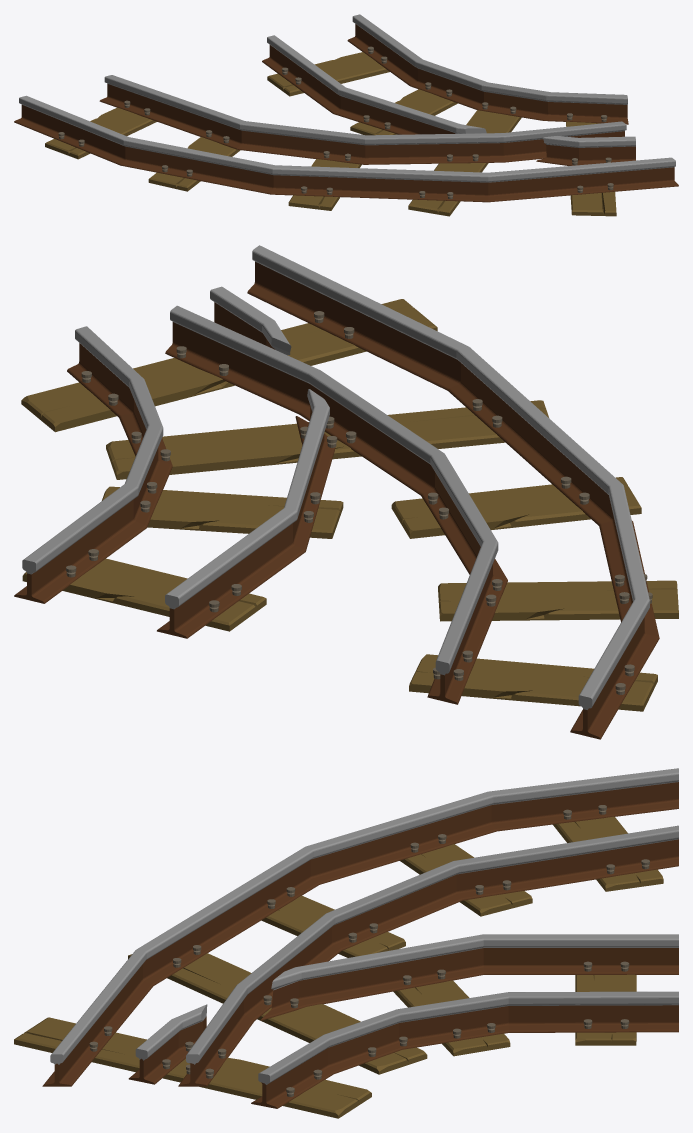
Rendered from ray_tahta_2_egimli_.fbx.
3 views of the same model, one above another, from view 1: azimuth 30°, elevation 25°; view 2: azimuth 150°, elevation 25°; view 3: azimuth 270°, elevation 25° (orthographic). The views are drawn at different scales.
Visible parts, largest first — view 1: Cube.013, Cube.021, Cube.005, Cube.002, Cube.001, Cube.024, Cube.003, Cube.004; view 2: Cube.013, Cube.021, Cube.024, Cube.003, Cube.002, Cube.001, Cube.004, Cube.005; view 3: Cube.013, Cube.024, Cube.021, Cube.004, Cube.002, Cube.001, Cube.003, Cube.005.
Part boxes in pixels (left/top/right/bottom): Cube.013: left=14, top=14, right=678, bottom=202; Cube.021: left=408, top=102, right=521, bottom=216; Cube.005: left=267, top=46, right=389, bottom=96; Cube.002: left=45, top=100, right=156, bottom=159; Cube.001: left=350, top=82, right=457, bottom=135; Cube.024: left=566, top=113, right=616, bottom=216; Cube.003: left=148, top=130, right=240, bottom=191; Cube.004: left=288, top=151, right=361, bottom=210; Cube.013: left=14, top=245, right=659, bottom=739; Cube.021: left=106, top=399, right=549, bottom=479; Cube.024: left=21, top=299, right=437, bottom=432; Cube.003: left=438, top=573, right=678, bottom=621; Cube.002: left=409, top=650, right=657, bottom=711; Cube.001: left=102, top=482, right=343, bottom=538; Cube.004: left=391, top=476, right=641, bottom=538; Cube.005: left=22, top=549, right=266, bottom=631; Cube.013: left=42, top=768, right=678, bottom=1108; Cube.024: left=14, top=1017, right=371, bottom=1118; Cube.021: left=128, top=945, right=427, bottom=1074; Cube.004: left=261, top=887, right=405, bottom=957; Cube.002: left=553, top=805, right=663, bottom=891; Cube.001: left=393, top=969, right=510, bottom=1056; Cube.003: left=400, top=834, right=532, bottom=916; Cube.005: left=575, top=961, right=636, bottom=1045.
Size of the model in its own units: 1438 by 82.58 by 1280.
